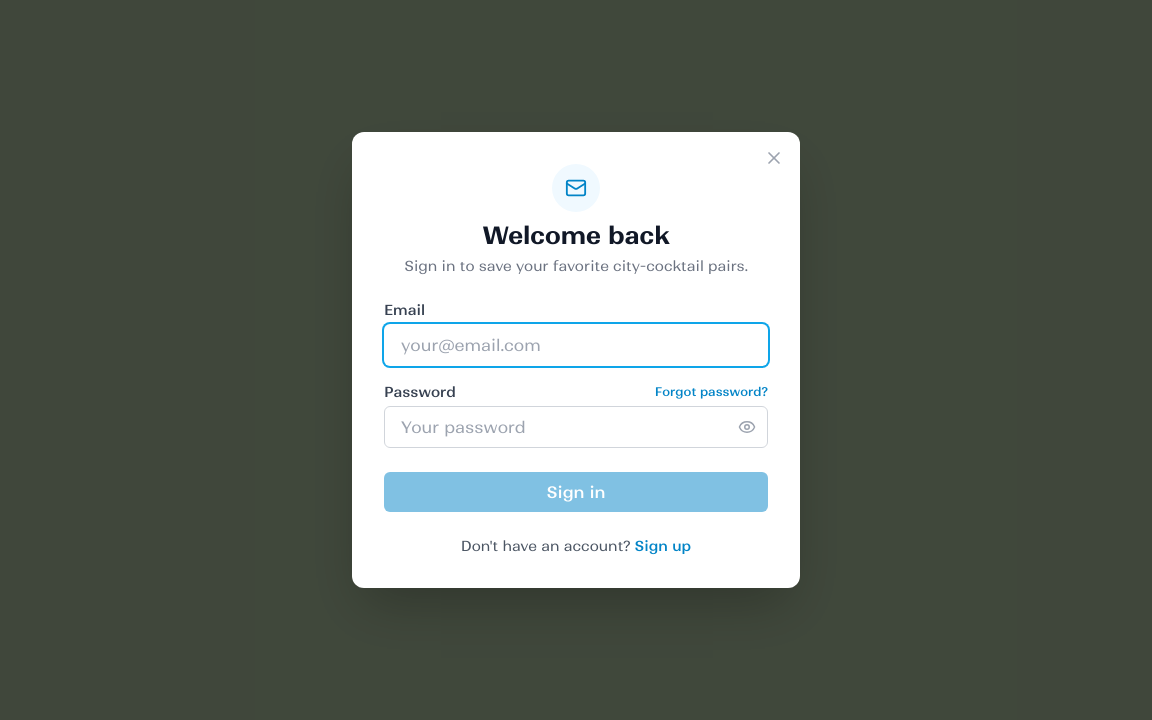
Test case: AuthModal (standard auth flows) › switches to signup and back with one click
Click the button "Sign up".
click(663, 546)  # box [634,536,691,556]
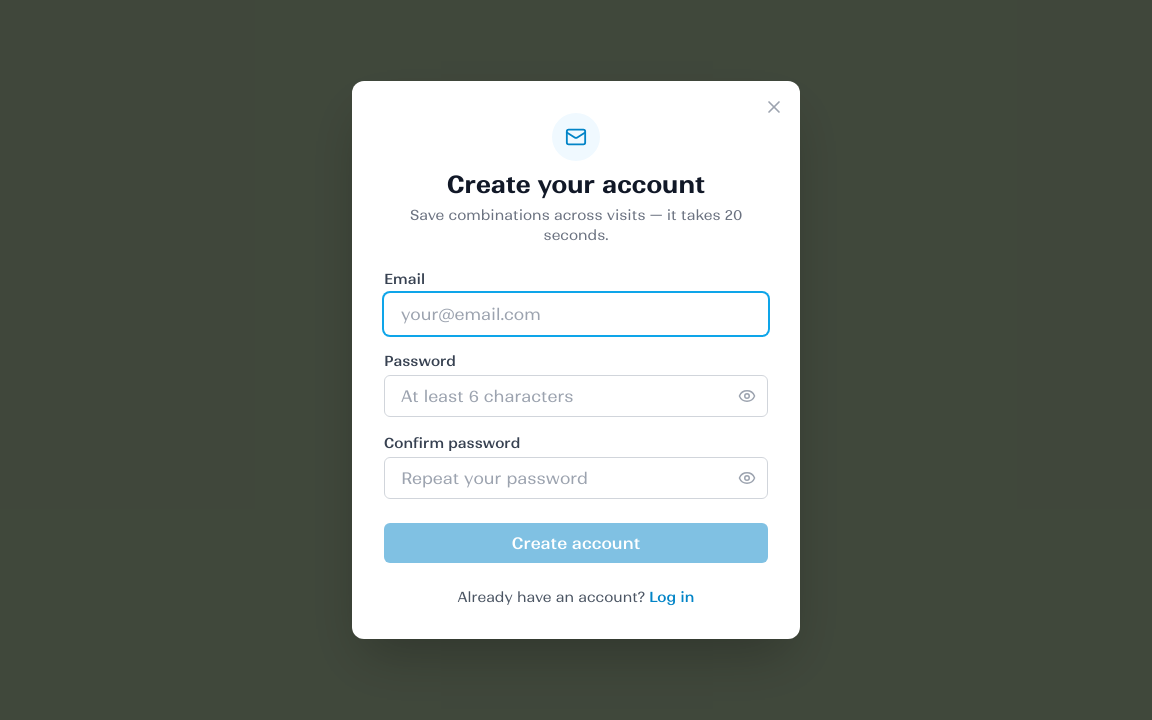
Now the password field labelled "Confirm password" is shown, box [384,457,768,499]
Click the button "Log in".
click(672, 597)  # box [649,587,694,607]
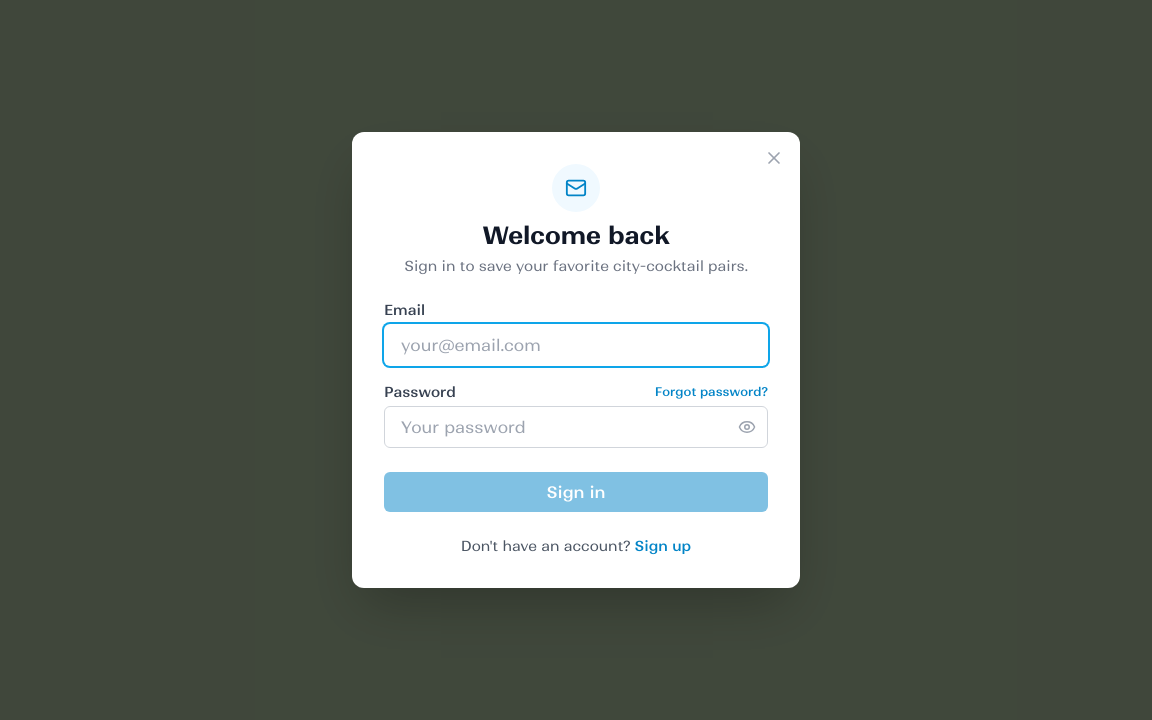
Now the field labelled "Email" is shown, box [384,324,768,366]
